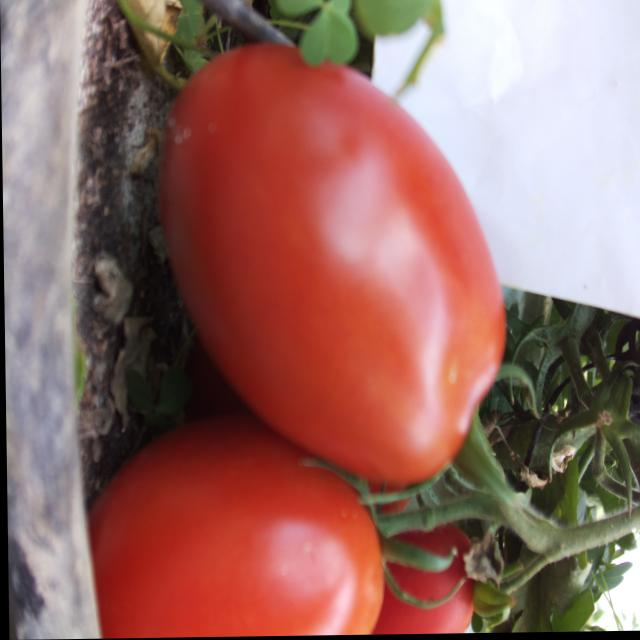kirmizi: (155, 39, 520, 485)
